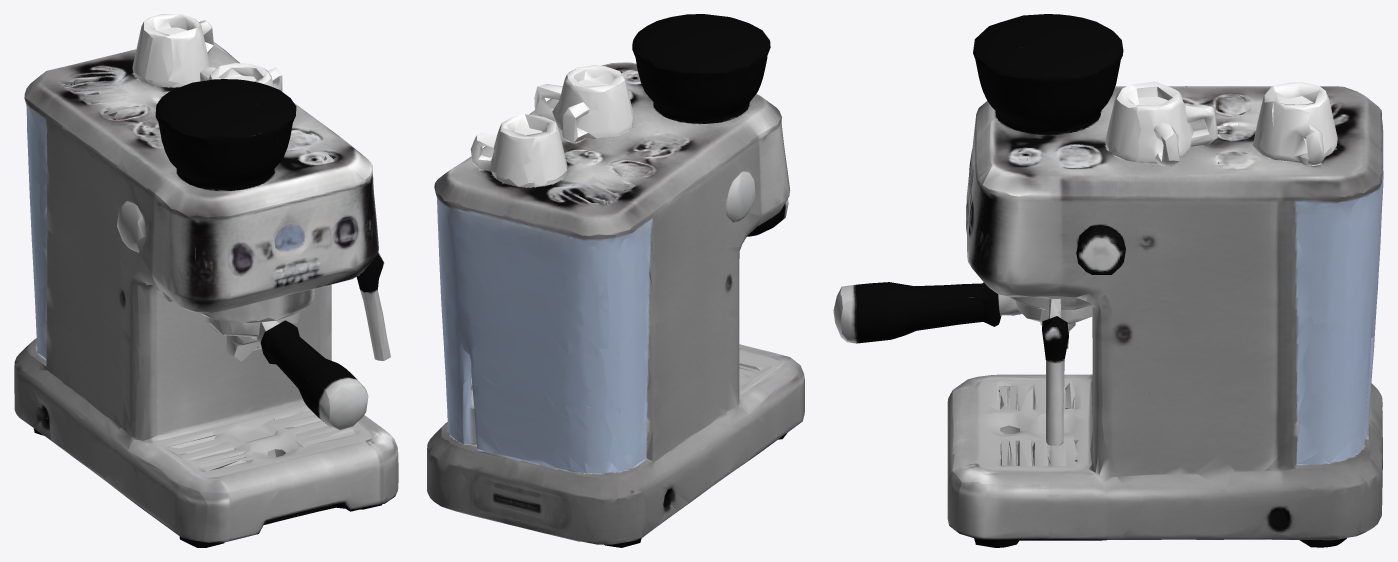
Rendered from espresso-machine.glb.
The picture shows the model from 3 angles, left to right: view 1: azimuth 30°, elevation 25°; view 2: azimuth 150°, elevation 25°; view 3: azimuth 270°, elevation 25°; orthographic projection. The views are drawn at different scales.
Visible parts, largest first — view 1: mes_placement; view 2: mes_placement; view 3: mes_placement.
Part boxes in pixels (x1,y1,x2,y2): mes_placement: (14, 14, 398, 547); mes_placement: (427, 14, 804, 547); mes_placement: (833, 14, 1383, 547).
Size of the model in its own units: 0.231 by 0.3756 by 0.42.
Materials: 1 (1 with a texture image).
